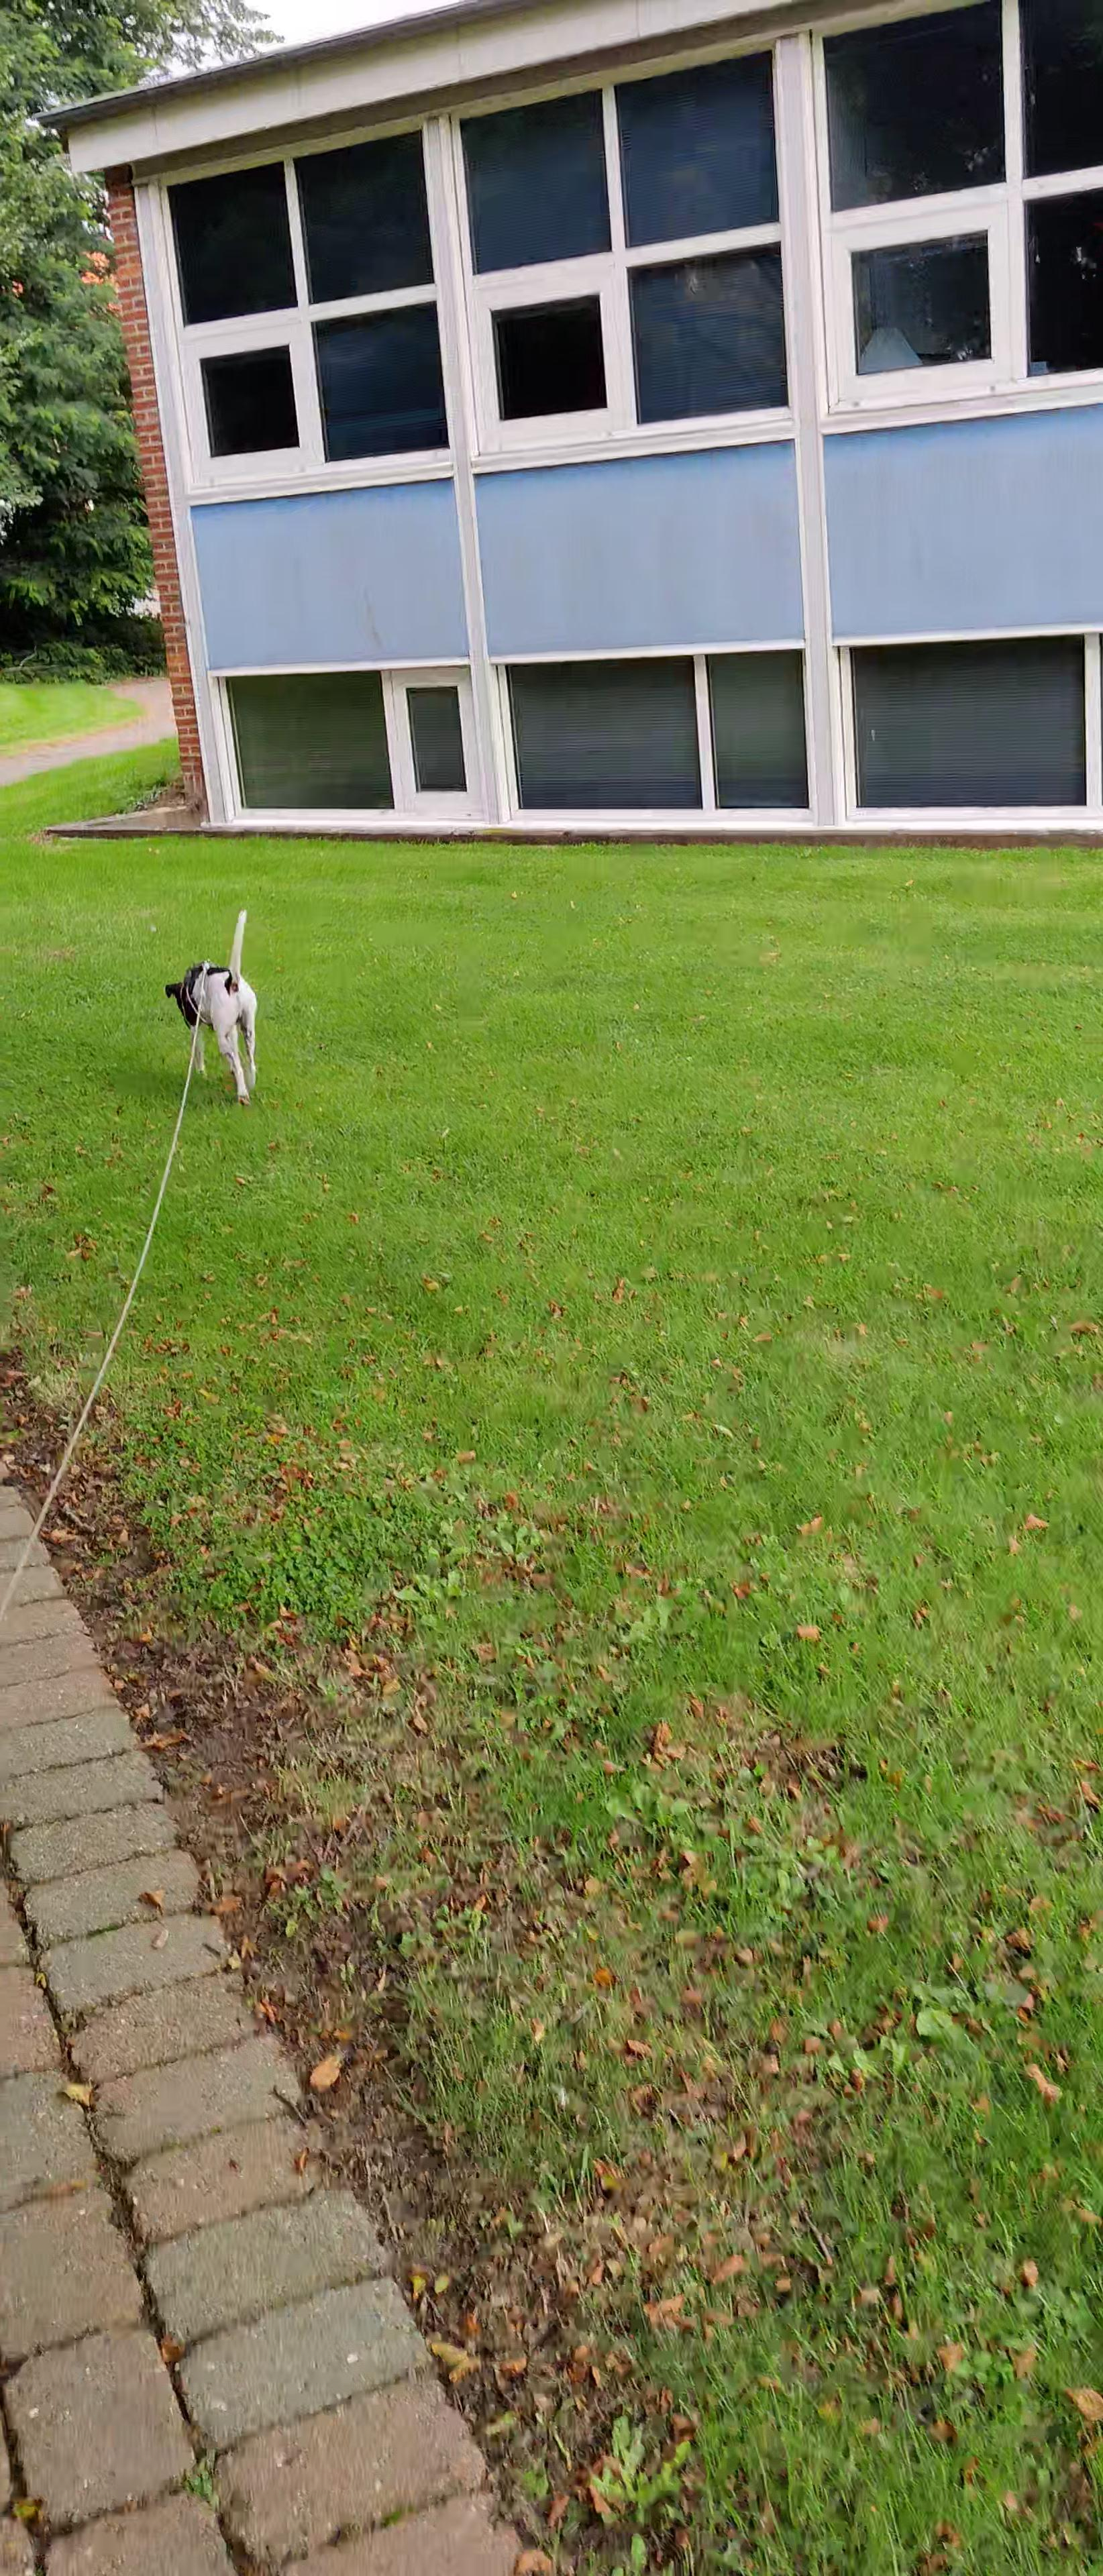Dog: (158, 907, 261, 1101)
